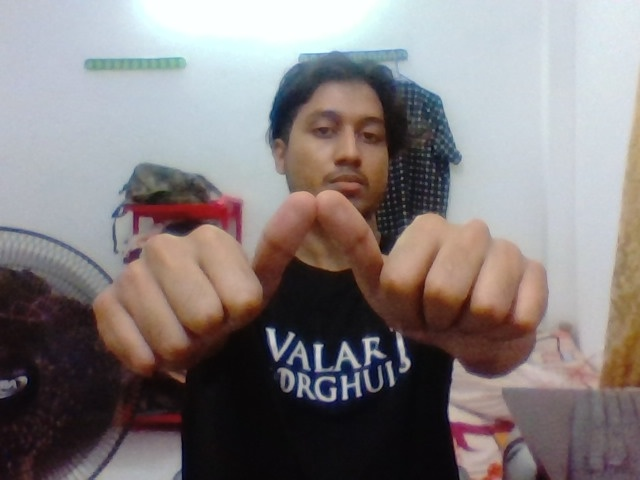A: (69, 171, 564, 371)
